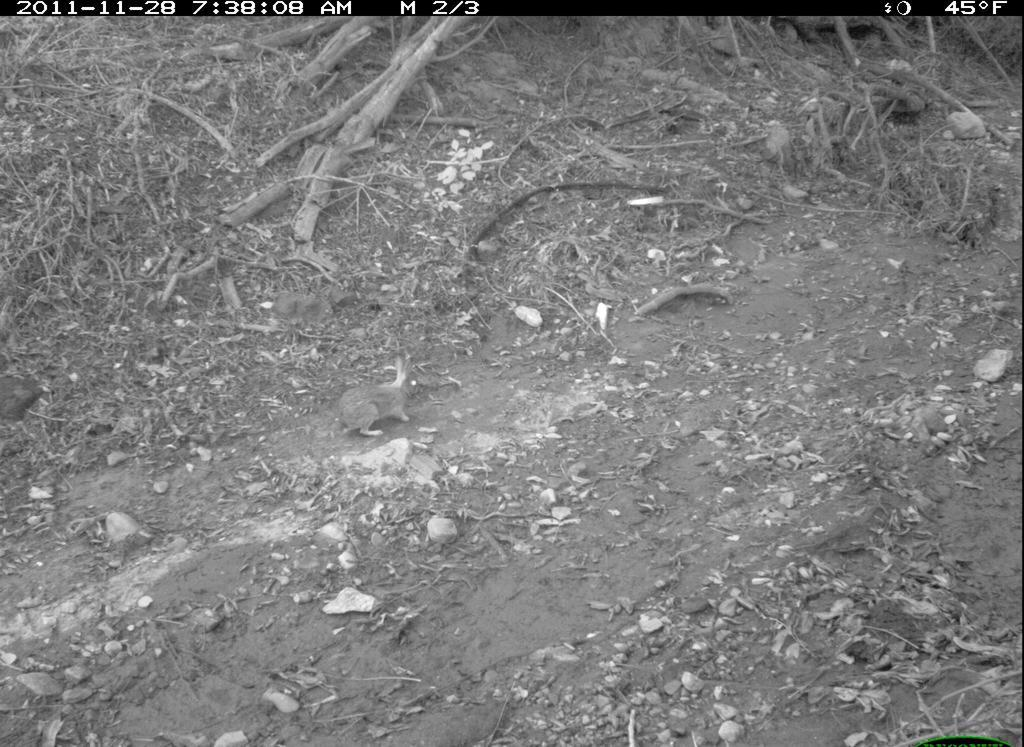rabbit: (333, 350, 425, 441)
